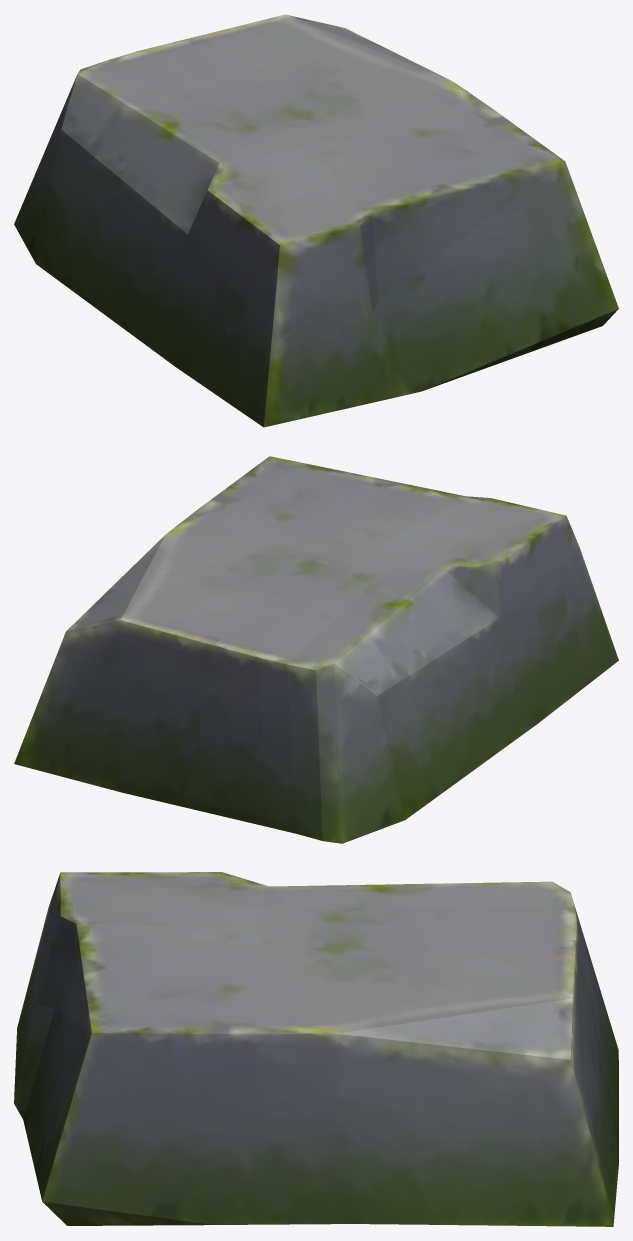
File: pebble-square-s71l3q1nxn-transformed.glb
The picture shows the model from 3 angles, top to bottom: view 1: azimuth 30°, elevation 25°; view 2: azimuth 150°, elevation 25°; view 3: azimuth 270°, elevation 25°; orthographic projection. The views are drawn at different scales.
Parts seen in each view (by area): view 1: Pebble_Square_5; view 2: Pebble_Square_5; view 3: Pebble_Square_5.
Part boxes in pixels (x1,y1,x2,y2): Pebble_Square_5: [14, 14, 618, 427]; Pebble_Square_5: [14, 456, 618, 843]; Pebble_Square_5: [14, 872, 618, 1226].
Size of the model in its own units: 0.352 by 0.1522 by 0.4504.
Materials: 1 (1 with a texture image).
